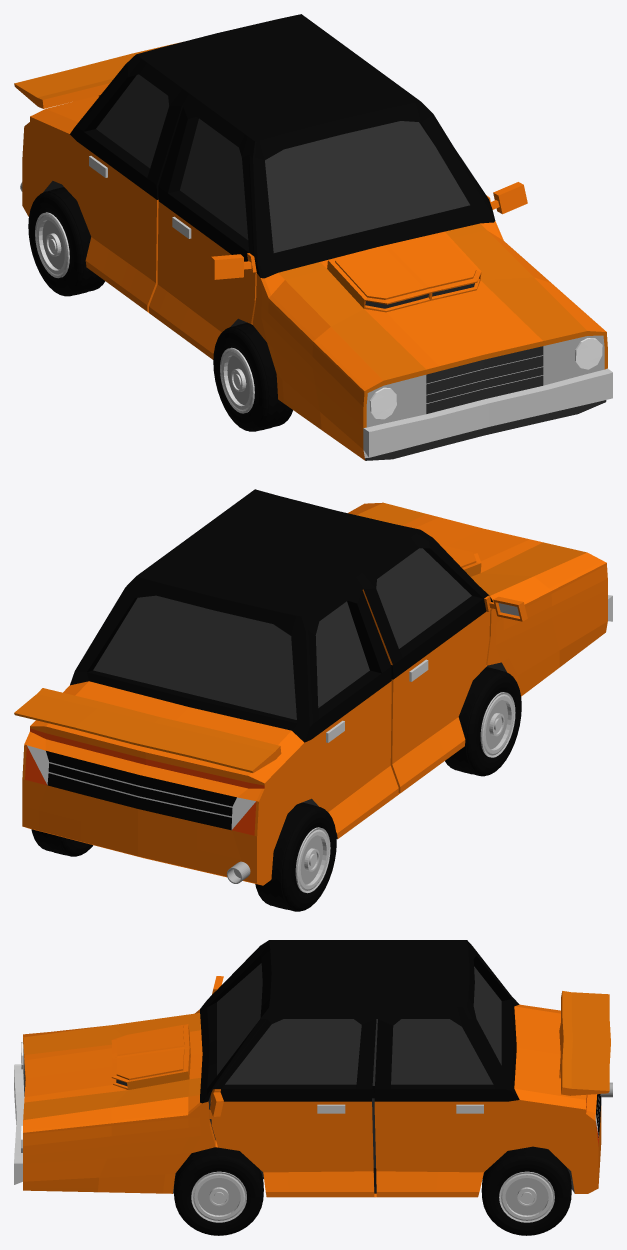
The model's file is CR-CAR-18.fbx.
3 views of the same model, one above another, from view 1: azimuth 30°, elevation 25°; view 2: azimuth 150°, elevation 25°; view 3: azimuth 270°, elevation 25° (orthographic). The views are drawn at different scales.
Parts seen in each view (by area): view 1: BODY, WHEEL.001, WHEEL.004; view 2: BODY, WHEEL.004, WHEEL.001, WHEEL.002; view 3: BODY, WHEEL.002, WHEEL.003.
Part boxes in pixels (bbox=[...]): BODY: bbox=[14, 14, 612, 460]; WHEEL.001: bbox=[213, 322, 292, 431]; WHEEL.004: bbox=[28, 187, 105, 296]; BODY: bbox=[14, 489, 612, 885]; WHEEL.004: bbox=[255, 802, 336, 911]; WHEEL.001: bbox=[445, 667, 521, 776]; WHEEL.002: bbox=[31, 829, 92, 856]; BODY: bbox=[14, 940, 610, 1197]; WHEEL.002: bbox=[481, 1146, 571, 1235]; WHEEL.003: bbox=[174, 1147, 263, 1235].
Bounding box in the file's own units: 131 × 102 × 260.
